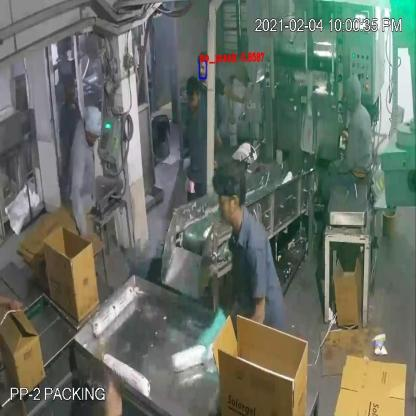glove: (196, 306, 238, 369)
no_glove: (65, 143, 92, 244), (0, 283, 28, 328), (218, 81, 251, 114)
